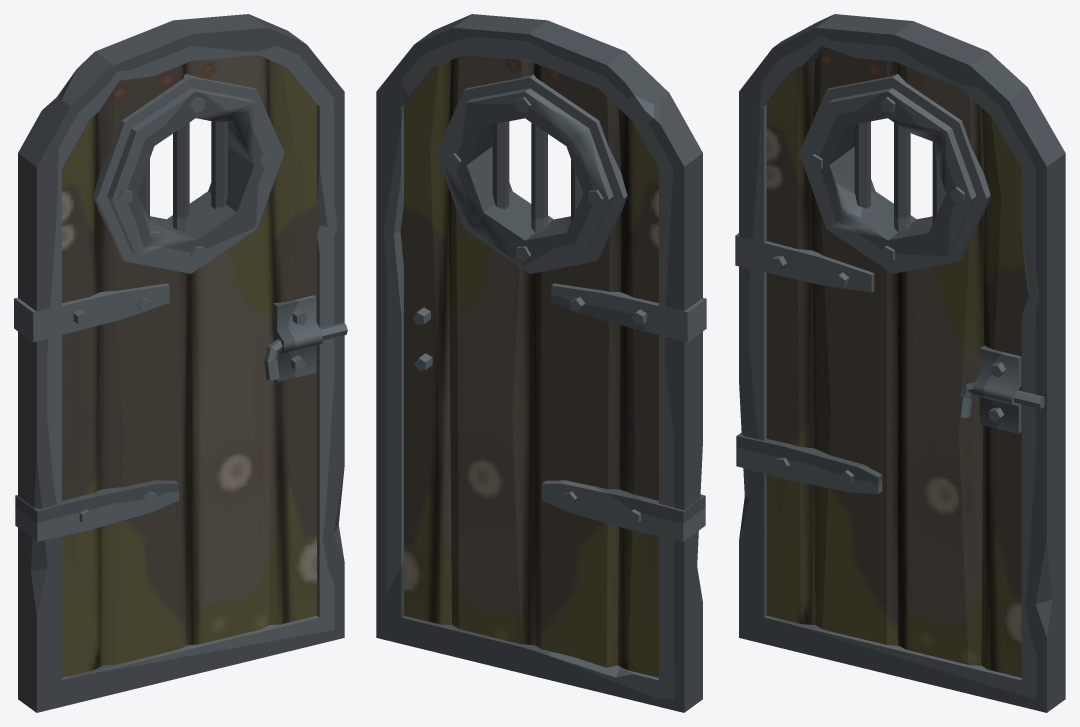
Rendered from SM_Bld_Door_06.fbx.
3 views of the same model, side by side, from view 1: azimuth 30°, elevation 25°; view 2: azimuth 150°, elevation 25°; view 3: azimuth 330°, elevation 25° (orthographic).
Visible parts, largest first — view 1: SM_Bld_Door_06; view 2: SM_Bld_Door_06; view 3: SM_Bld_Door_06.
Boxes of the visible parts, box(x1,y1,x2,y2) form: SM_Bld_Door_06: box(14, 14, 347, 712); SM_Bld_Door_06: box(376, 14, 706, 712); SM_Bld_Door_06: box(735, 14, 1065, 712).
Size of the model in its own units: 101 by 199 by 19.66.
